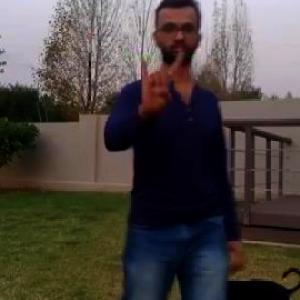takeoff-hand: (129, 41, 187, 115)
